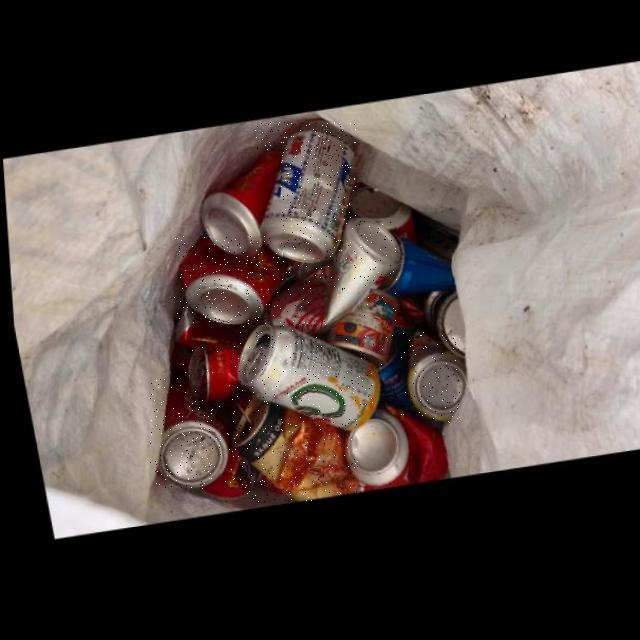metal: (259, 219, 397, 336), (233, 325, 373, 431), (255, 122, 356, 265), (224, 399, 358, 502), (175, 236, 283, 325), (196, 150, 281, 259), (338, 405, 441, 491), (150, 378, 221, 489), (319, 290, 392, 370), (401, 332, 460, 423), (182, 342, 237, 404)
